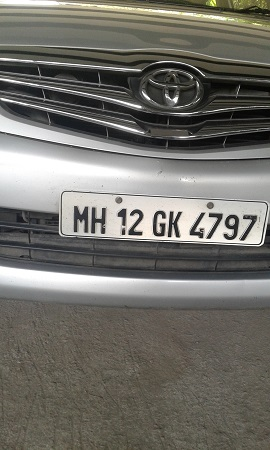licenseplate: (56, 185, 270, 250)
